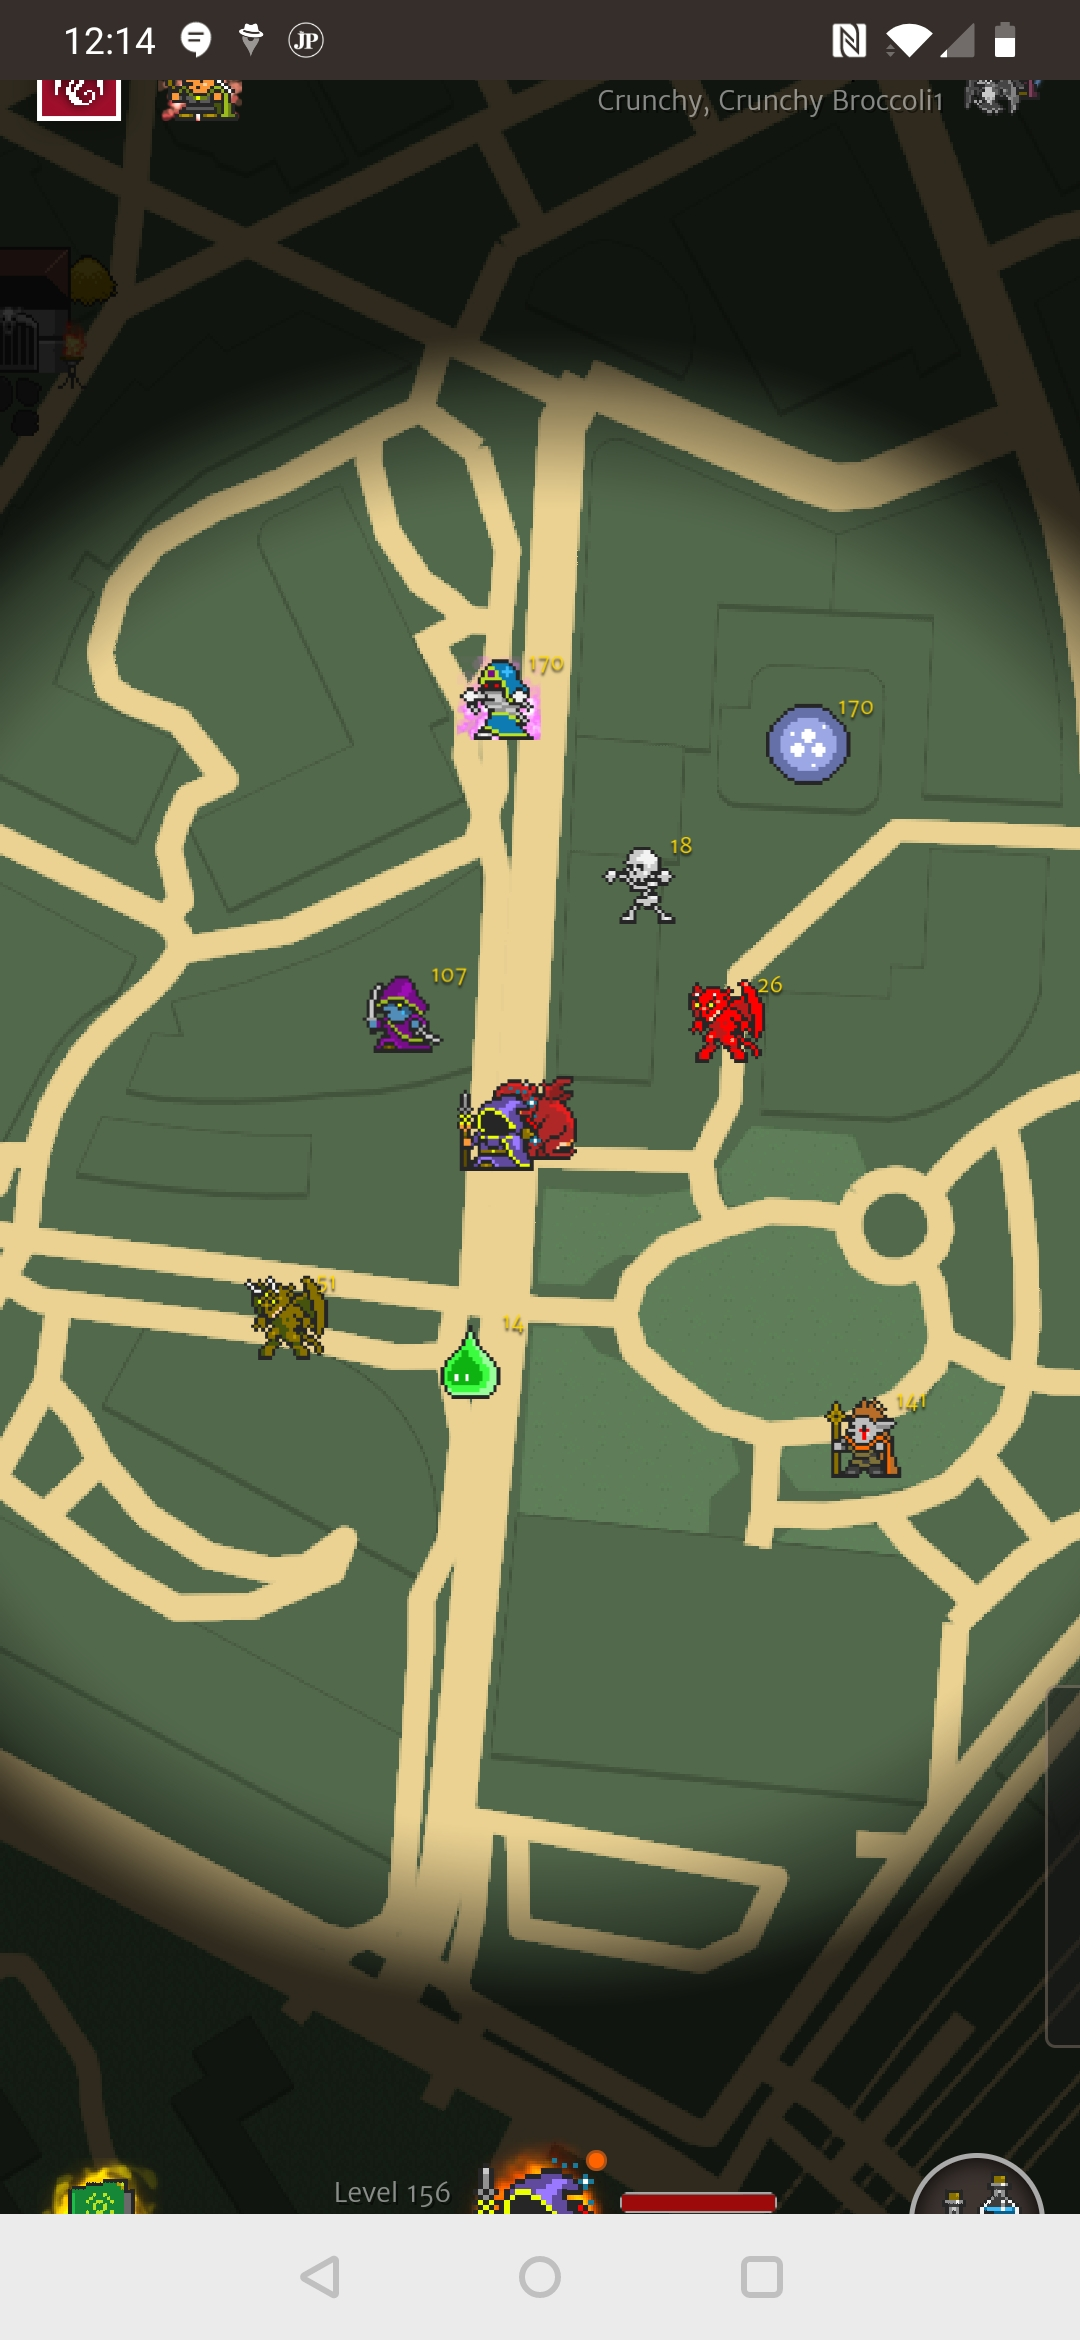monster: (669, 965, 792, 1080), (817, 1374, 932, 1489), (224, 1267, 339, 1382), (360, 963, 473, 1075), (761, 691, 883, 791), (458, 646, 564, 752), (603, 831, 695, 936), (437, 1316, 527, 1406)
player: (446, 1094, 536, 1173)
